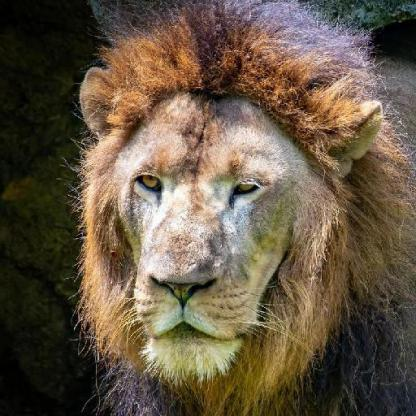lion: (66, 63, 374, 381)
